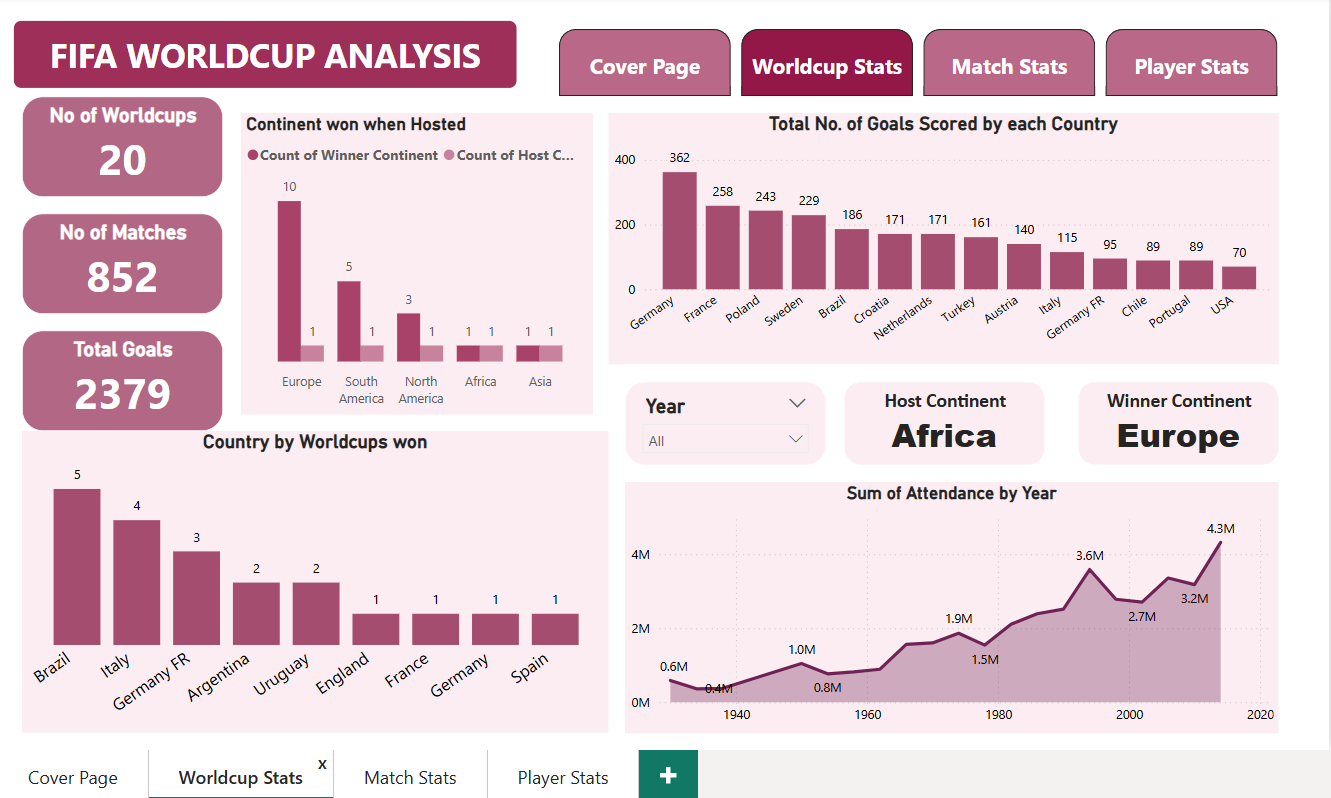

What the dashboard file says about the page in this screenshot:
{"tool":"powerbi","page":{"name":"Worldcup Stats","canvas":[1280,720],"ordinal":1},"visuals":[{"type":"columnChart","title":"Total No. of Goals Scored by each Country","fields":{"Category":["WorldCups.Country"],"Y":["Sum(WorldCups.GoalsScored)"]},"box":[592,112,640,240],"z":0},{"type":"card","title":"Host Continent","fields":{"Values":["Min(WorldCups.Host Continent)"]},"box":[816,368,192,80],"z":1000},{"type":"slicer","fields":{"Values":["WorldCups.Year"]},"box":[608,368,192,80],"z":2000},{"type":"areaChart","fields":{"Category":["WorldCups.Year"],"Y":["Sum(WorldCupMatches.Attendance)"]},"box":[608,464,624,240],"z":3000},{"type":"card","title":"No of Matches","fields":{"Values":["CountNonNull(WorldCupMatches.MatchID)"]},"box":[32,208,192,96],"z":4000},{"type":"card","title":"Winner Continent","fields":{"Values":["Min(WorldCups.Winner Continent)"]},"box":[1040,368,192,80],"z":5000},{"type":"card","title":"Total Goals","fields":{"Values":["Sum(WorldCups.GoalsScored)"]},"box":[32,320,192,96],"z":6000},{"type":"card","title":"No of Worldcups","fields":{"Values":["CountNonNull(WorldCups.Winner)"]},"box":[32,96,192,96],"z":7000},{"type":"columnChart","title":"Country by Worldcups won","fields":{"Y":["CountNonNull(WorldCups.Winner)"],"Category":["WorldCups.Winner"]},"box":[32,416,560,288],"z":8000},{"type":"pageNavigator","box":[544,32,688,64],"z":9000},{"type":"textbox","box":[16,16,496,80],"z":10000},{"type":"clusteredColumnChart","title":"Continent won when Hosted","fields":{"Y":["CountNonNull(WorldCups.Winner Continent)","Count(WorldCups.Host Continent)"],"Category":["WorldCups.Host Continent"]},"box":[240,112,336,288],"z":11000}]}

Visuals, with their boxes on the page's 1280x720 design canvas (x1, y1, x2, y2). These are canvas units, not pixel positions in the 1331x798 screenshot, which may show the page scaled, cropped or inside an application window:
"Total No. of Goals Scored by each Country" columnChart: [x1=592, y1=112, x2=1232, y2=352]
"Host Continent" card: [x1=816, y1=368, x2=1008, y2=448]
slicer - WorldCups.Year: [x1=608, y1=368, x2=800, y2=448]
areaChart - WorldCups.Year x Sum(WorldCupMatches.Attendance): [x1=608, y1=464, x2=1232, y2=704]
"No of Matches" card: [x1=32, y1=208, x2=224, y2=304]
"Winner Continent" card: [x1=1040, y1=368, x2=1232, y2=448]
"Total Goals" card: [x1=32, y1=320, x2=224, y2=416]
"No of Worldcups" card: [x1=32, y1=96, x2=224, y2=192]
"Country by Worldcups won" columnChart: [x1=32, y1=416, x2=592, y2=704]
pageNavigator: [x1=544, y1=32, x2=1232, y2=96]
textbox: [x1=16, y1=16, x2=512, y2=96]
"Continent won when Hosted" clusteredColumnChart: [x1=240, y1=112, x2=576, y2=400]
